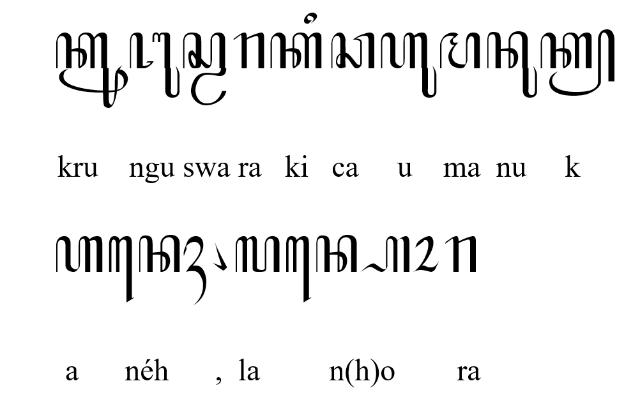-k: (540, 28, 614, 96)
_h: (360, 236, 410, 272)
_h1: (184, 236, 206, 306)
c: (331, 32, 375, 68)
e1: (109, 235, 135, 303), (285, 235, 311, 303)
h: (56, 235, 102, 272)
hu: (381, 32, 437, 98)
i: (304, 12, 316, 24)
k: (270, 32, 322, 68)
kom: (212, 242, 228, 270)
kru: (55, 32, 128, 108)
l: (234, 235, 280, 272)
m: (440, 32, 480, 68)
n: (138, 234, 180, 272), (315, 235, 357, 273)
ngu: (130, 32, 180, 98)
nu: (487, 30, 537, 98)
o: (413, 236, 439, 272)
r: (234, 32, 266, 70), (444, 235, 476, 272)
sw: (182, 32, 228, 107)
